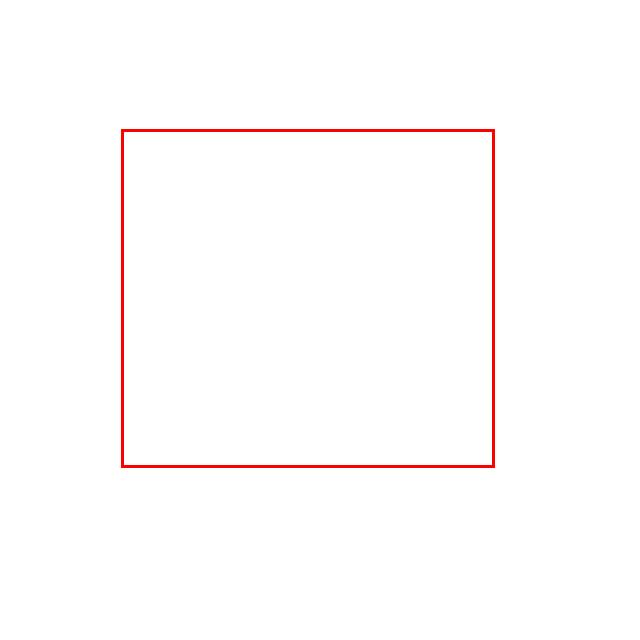CocaCola: (121, 129, 494, 467)
